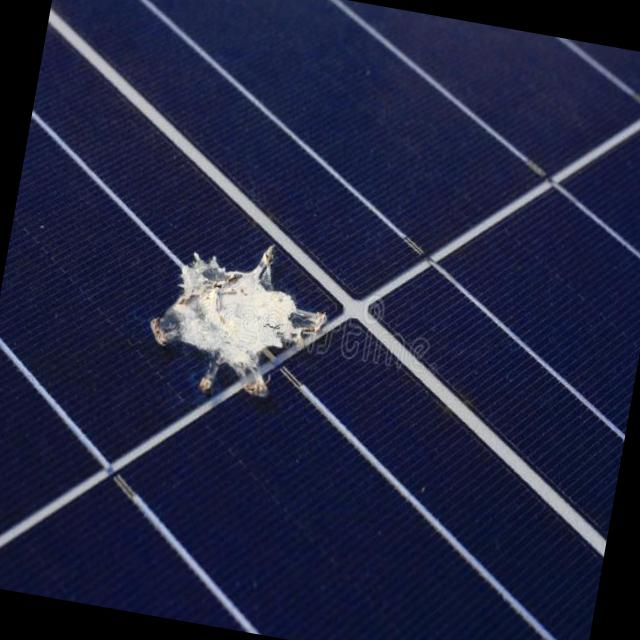faulty: (50, 168, 467, 508)
